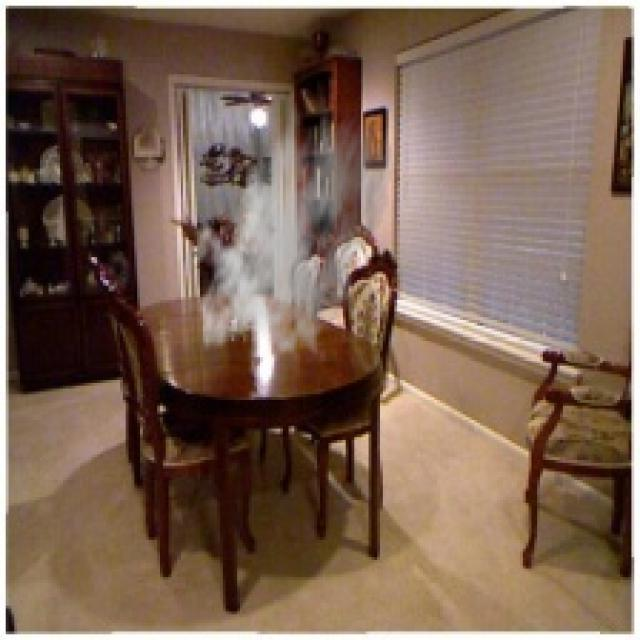Smoke: (194, 88, 394, 366)
